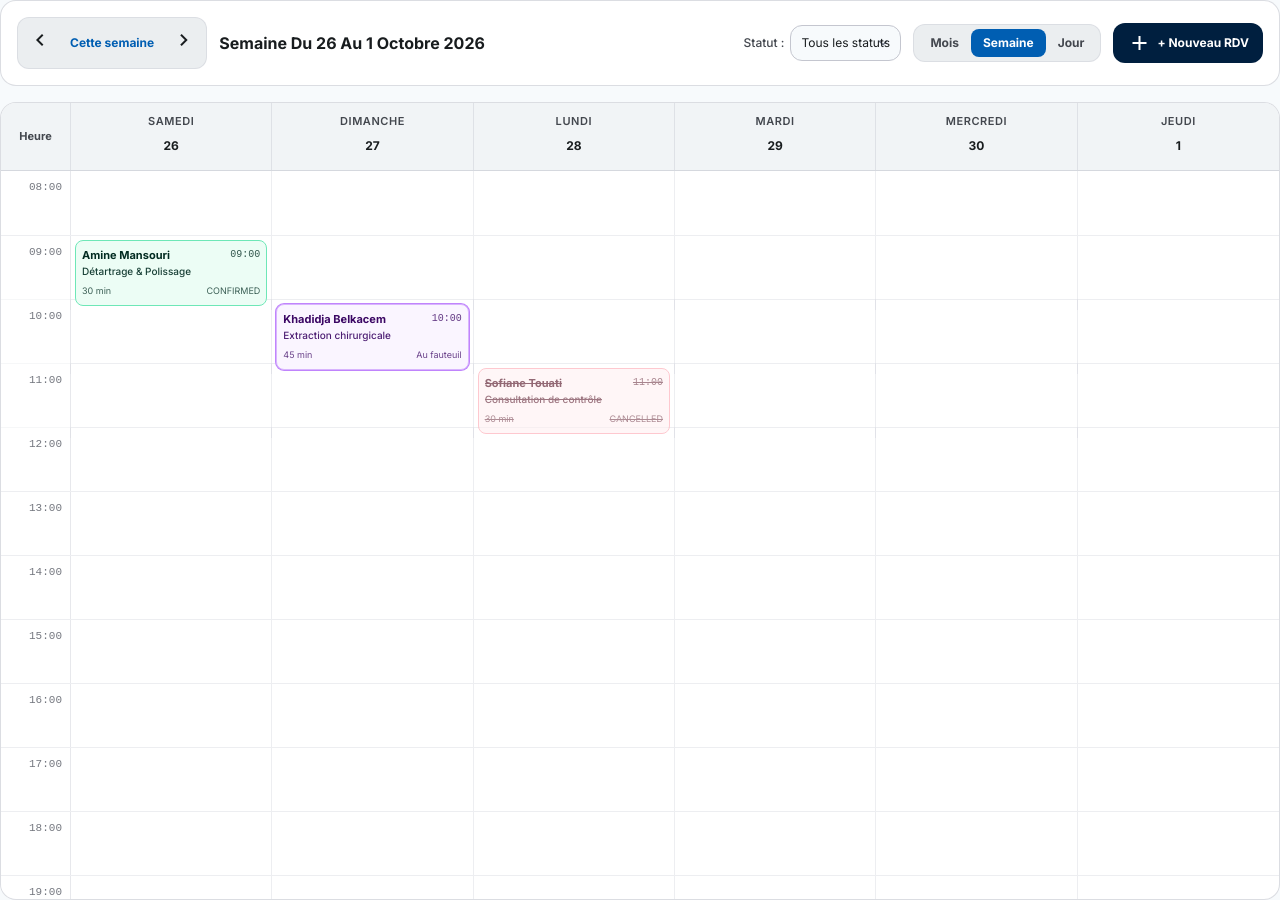
FullCalendarView Frontend Tests (Month, Week, Day & Interactivity) › 2. Month View (Calculation of days starting on Saturday & Badges) › opens appointment detail modal directly when clicking a mini appointment card in Month view
Click the button "Mois".
click(945, 43)  # box [918, 29, 971, 57]
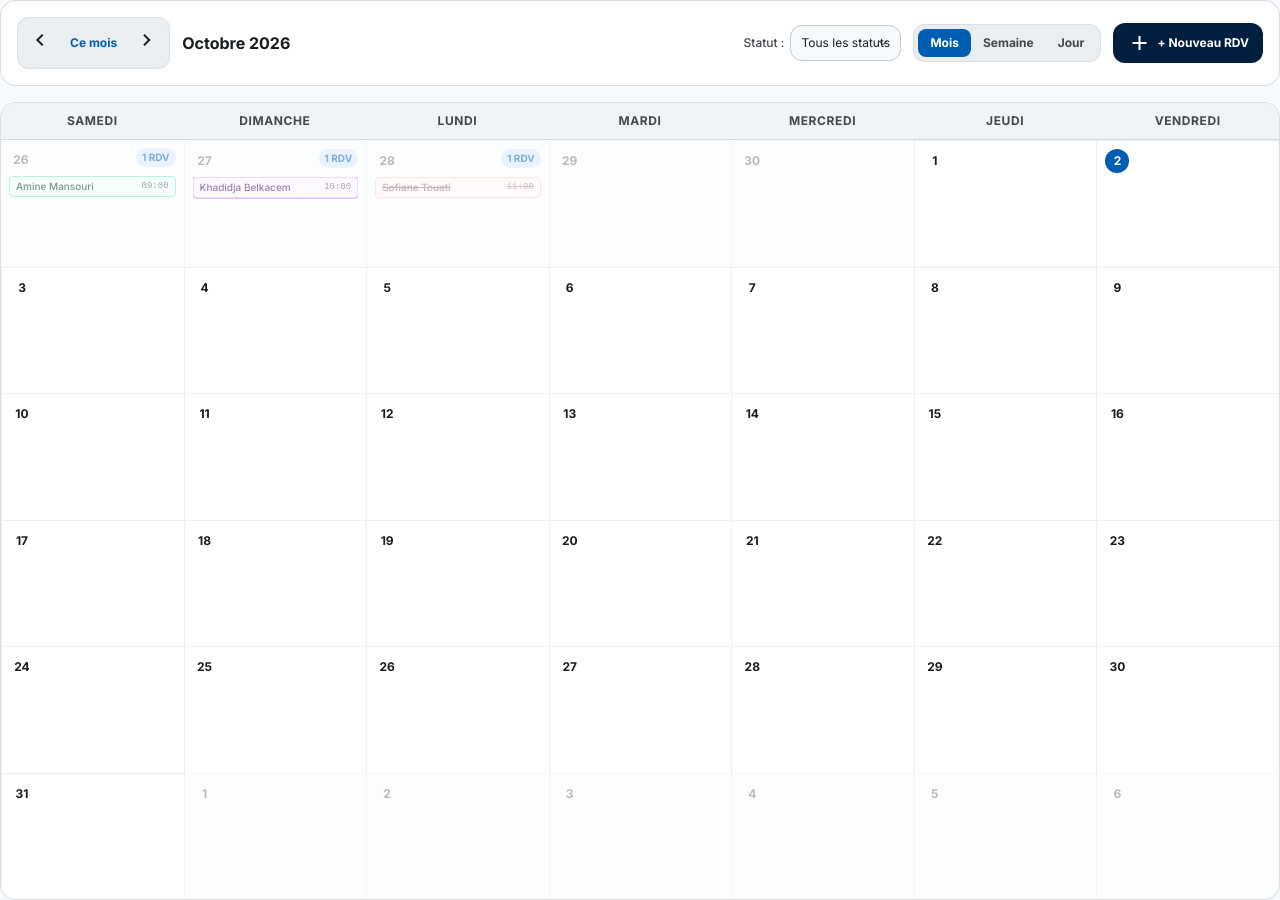
Click the text "Amine Mansouri".
click(55, 186)  # box [16, 179, 94, 194]
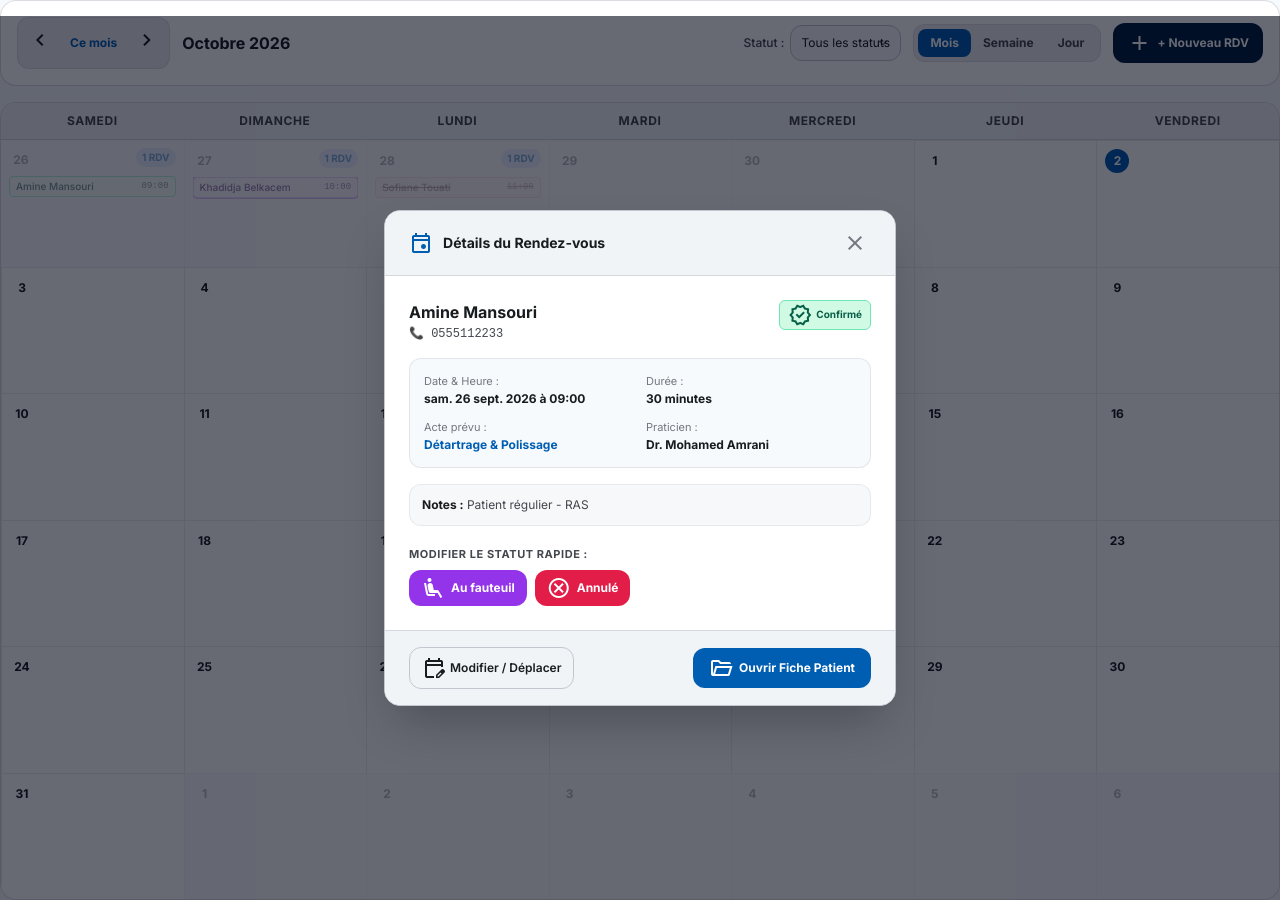
expect the heading "Détails du Rendez-vous" is shown: met, box [443, 233, 605, 253]
expect the button "Ouvrir Fiche Patient" is shown: met, box [693, 648, 871, 688]
